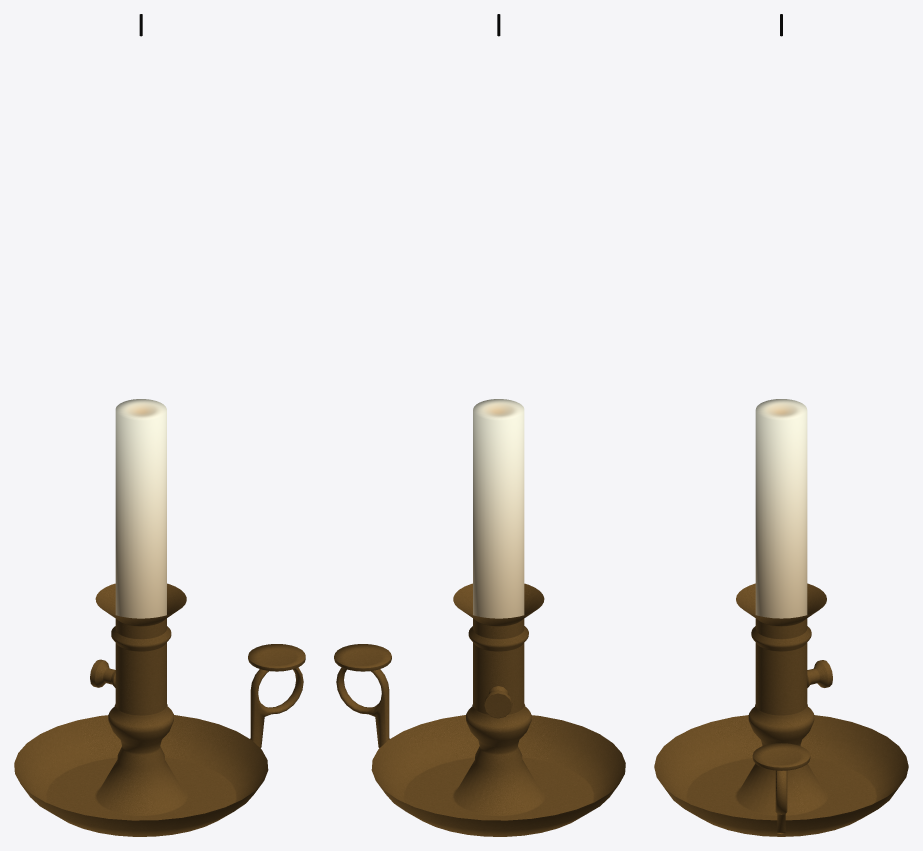
File: CandleStickAndHolder.glb
3 renders of one model, left to right at view 1: azimuth 30°, elevation 25°; view 2: azimuth 150°, elevation 25°; view 3: azimuth 270°, elevation 25°, orthographic.
Visible parts, largest first — view 1: CandleHolder, Candle.Body, CandleHolder.FingerThingy, CangleHolder.PinThingy; view 2: CandleHolder, Candle.Body, CandleHolder.FingerThingy, CangleHolder.PinThingy; view 3: CandleHolder, Candle.Body, CandleHolder.FingerThingy, CangleHolder.PinThingy.
Boxes of the visible parts, box(x1,y1,x2,y2) form: CandleHolder: box(14, 583, 268, 836); Candle.Body: box(115, 399, 166, 618); CandleHolder.FingerThingy: box(248, 644, 305, 748); CangleHolder.PinThingy: box(90, 659, 115, 687); CandleHolder: box(371, 583, 625, 836); Candle.Body: box(473, 399, 524, 618); CandleHolder.FingerThingy: box(334, 644, 391, 748); CangleHolder.PinThingy: box(484, 685, 512, 718); CandleHolder: box(654, 583, 908, 836); Candle.Body: box(755, 399, 807, 618); CandleHolder.FingerThingy: box(752, 743, 810, 834); CangleHolder.PinThingy: box(807, 660, 832, 687).
Bounding box in the file's own units: 0.2209 × 0.608 × 0.1795.
1 material, 1 textured.
